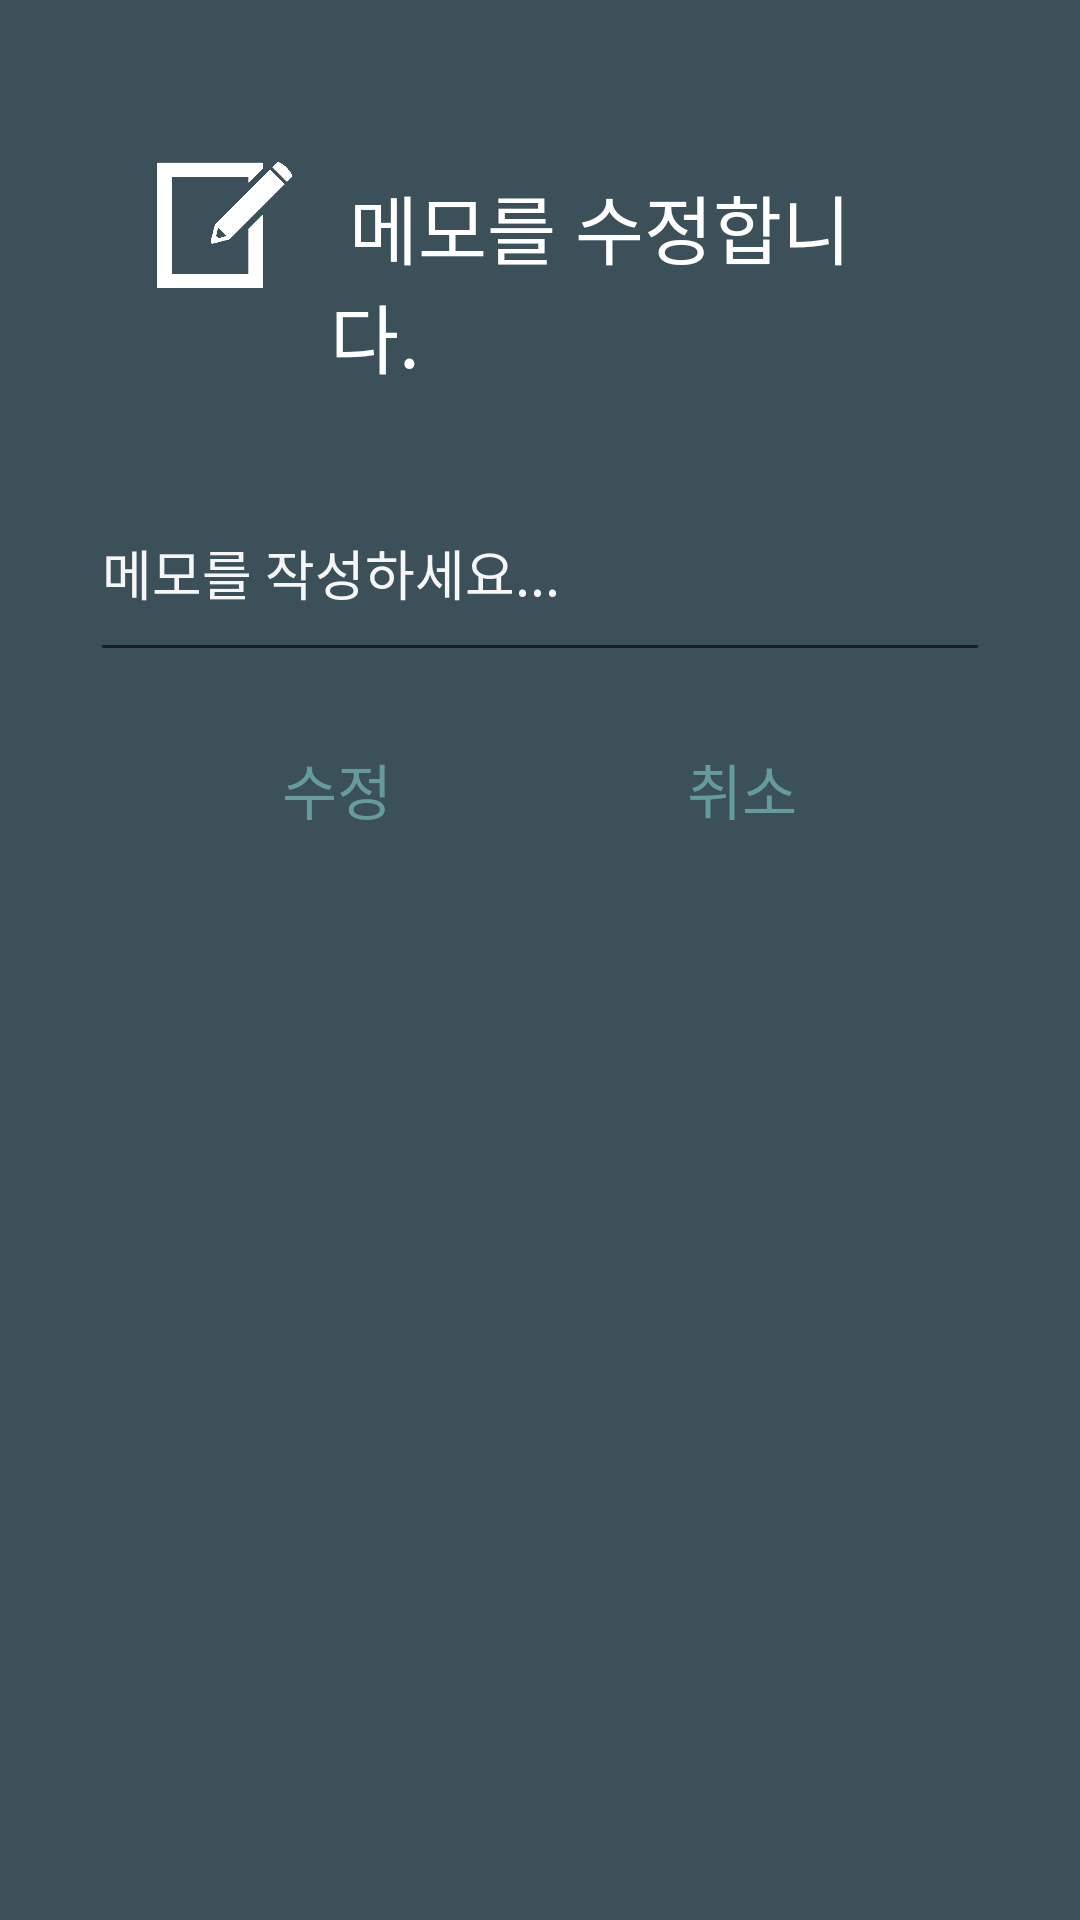

Locate icon controls on the screen. Image size 1080x1920, boxes as (x1, y1, x2, y2).
edit pen: (157, 162, 292, 288)
